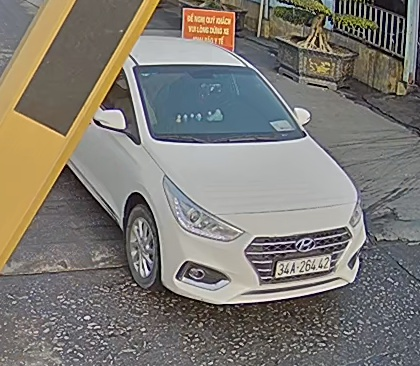vehicle plate: (270, 252, 338, 281)
